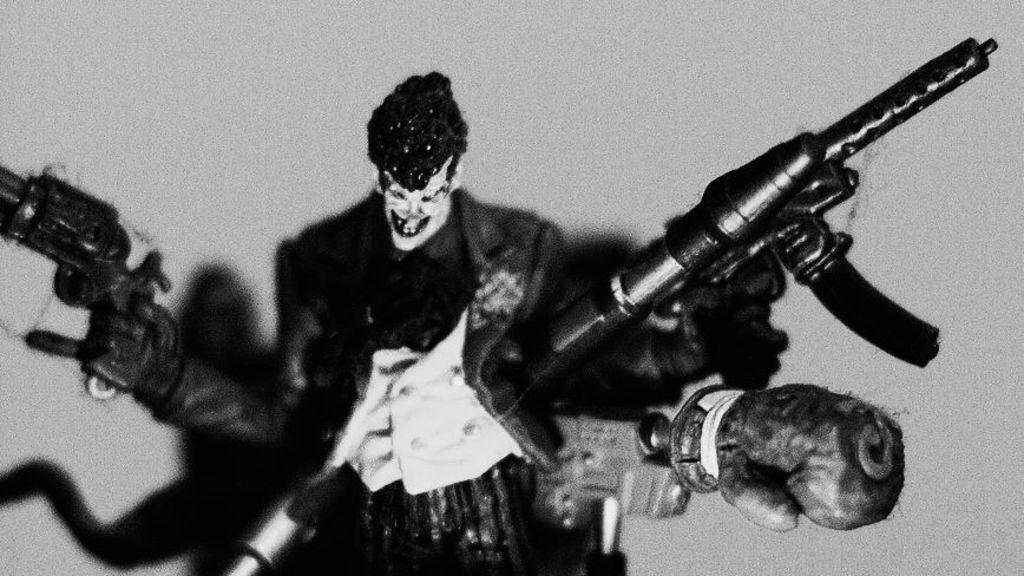Rifle: (333, 37, 1002, 575), (0, 162, 172, 401)
